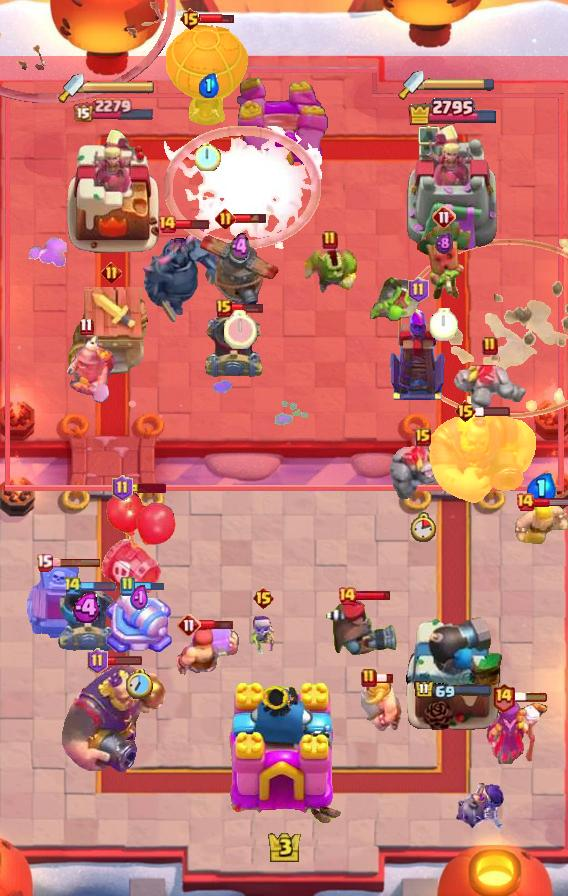archer: (514, 504, 568, 548)
axe: (485, 698, 549, 764)
bandit: (55, 332, 117, 404)
bar: (64, 124, 164, 256), (406, 122, 500, 256)
bar-level: (366, 274, 424, 322)
barbarian-evolution: (164, 126, 322, 249)
cannon-cart: (166, 23, 250, 125)
dark-prince: (195, 222, 285, 308)
electro-spirit: (527, 473, 557, 505), (72, 593, 104, 623), (230, 233, 250, 264), (130, 584, 150, 613), (197, 73, 218, 98), (435, 232, 453, 255)
elixir: (223, 311, 256, 350), (430, 308, 458, 340), (127, 669, 154, 699), (195, 141, 221, 171), (410, 512, 436, 542)
elixir-golem-mid: (24, 563, 94, 649)
emote: (50, 556, 102, 567), (199, 11, 235, 24), (199, 618, 234, 631), (475, 405, 511, 417), (81, 580, 117, 592), (513, 691, 549, 703), (233, 212, 268, 224), (174, 218, 209, 230), (356, 591, 393, 602), (106, 654, 143, 665), (230, 302, 263, 314), (532, 497, 568, 508), (130, 483, 166, 493), (133, 581, 165, 592), (374, 672, 394, 684)
flying-machine: (300, 243, 360, 297)
goblin: (247, 614, 279, 656)
goblin-ball: (452, 782, 506, 832)
goblin-barrel: (415, 222, 473, 302)
goblin-giant: (361, 676, 402, 731)
golemite: (139, 226, 223, 324)
guard: (398, 238, 568, 417)
ice-spirit-evolution-symbol: (387, 306, 449, 402)
king-tower: (222, 680, 346, 826)
king-tower-bar: (424, 77, 496, 91), (84, 80, 156, 94)
lightning: (58, 661, 170, 773), (426, 409, 539, 505)
mighty-miner: (169, 622, 239, 678)
musketeer: (203, 313, 265, 381), (58, 587, 118, 651)
phoenix-small: (322, 597, 400, 657)
royal-recruit: (105, 584, 176, 660)
royal-recruit-evolution: (97, 489, 177, 603)
selected: (407, 96, 499, 125), (72, 98, 155, 123), (414, 679, 494, 700)
skeleton-barrel: (0, 0, 176, 104)
sparky: (68, 286, 154, 384)
text: (492, 683, 517, 714), (432, 205, 456, 229), (177, 613, 201, 637), (178, 7, 201, 31), (455, 399, 478, 423), (253, 586, 276, 610), (407, 277, 428, 303), (112, 475, 133, 501), (87, 648, 108, 674), (215, 208, 236, 229), (101, 261, 122, 282), (63, 575, 83, 597), (157, 214, 177, 234), (515, 492, 535, 512), (337, 586, 357, 606), (322, 230, 338, 250), (482, 336, 498, 356), (119, 576, 135, 596), (361, 668, 377, 688), (36, 553, 53, 571), (216, 299, 232, 317), (415, 428, 431, 446), (78, 316, 93, 335)
tower-bar: (402, 615, 504, 731)
valkyrie-evolution: (452, 360, 528, 422), (389, 440, 457, 500)
